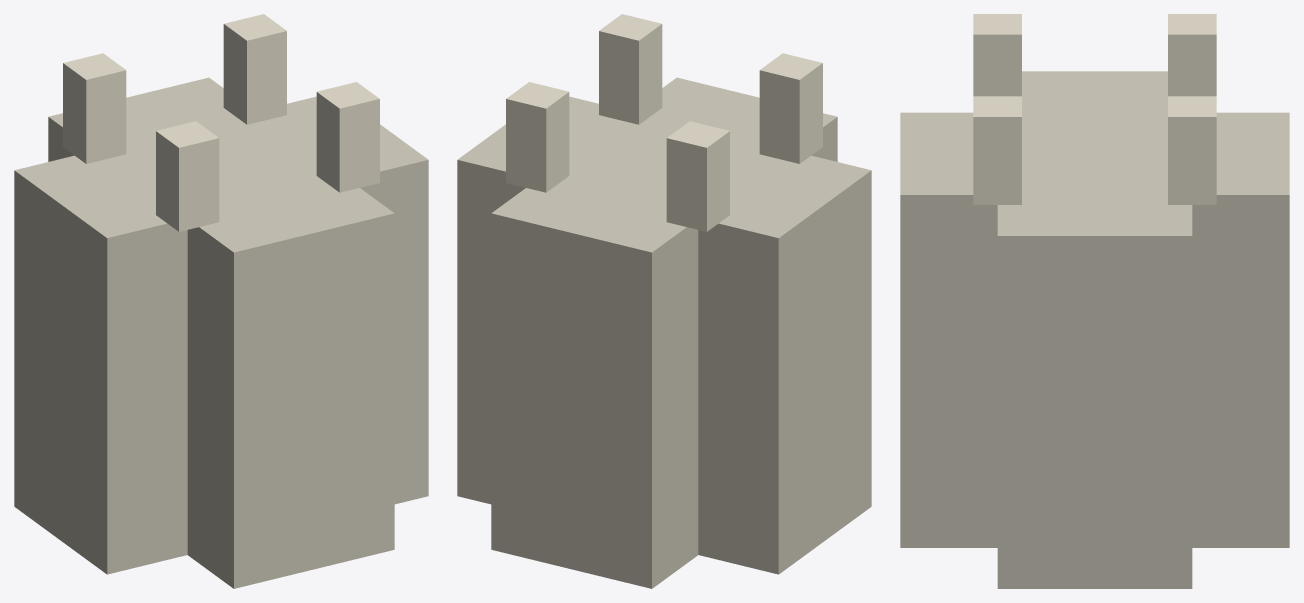
The model's file is curtain-cross.glb.
The picture shows the model from 3 angles, left to right: view 1: azimuth 30°, elevation 25°; view 2: azimuth 150°, elevation 25°; view 3: azimuth 270°, elevation 25°; orthographic projection. The views are drawn at different scales.
Visible parts, largest first — view 1: curtain-cross; view 2: curtain-cross; view 3: curtain-cross.
Boxes of the visible parts, x1,y1,x2,y2 form: curtain-cross: (14, 14, 428, 588); curtain-cross: (457, 14, 871, 588); curtain-cross: (900, 14, 1289, 588).
Bounding box in the file's own units: 4 × 5 × 4.
